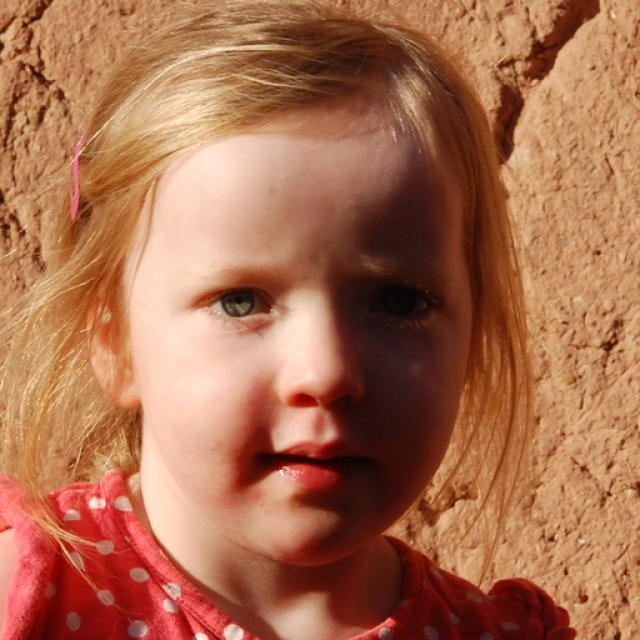anger: (128, 114, 472, 562)
